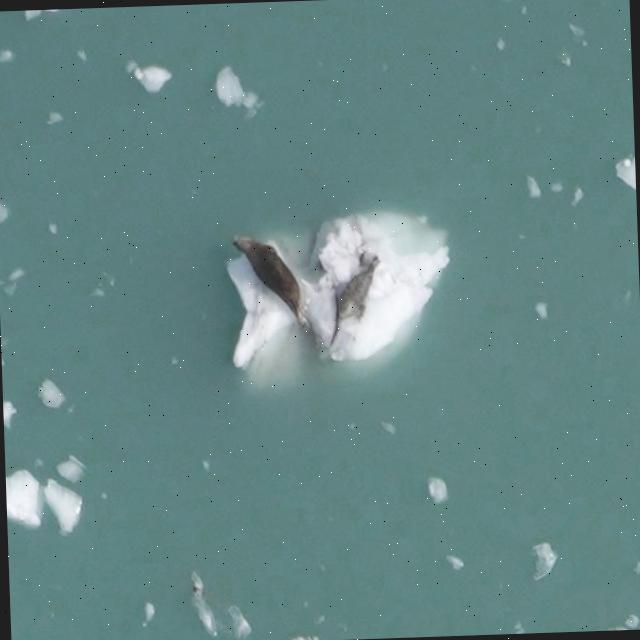seal: (230, 221, 323, 339), (327, 250, 378, 350)
